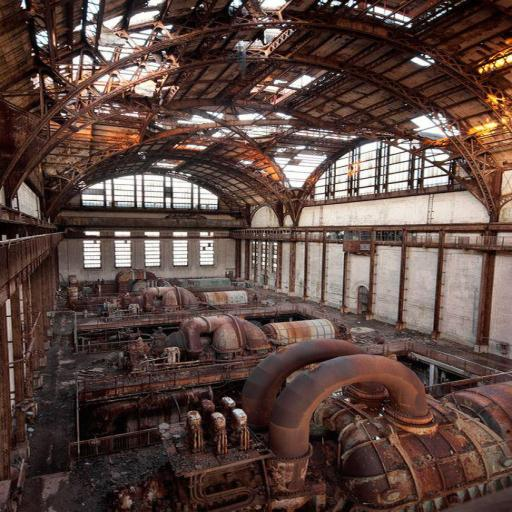segmentation: (0, 232, 511, 511), (161, 0, 483, 126), (324, 0, 510, 206), (0, 108, 306, 232), (0, 0, 114, 108)
